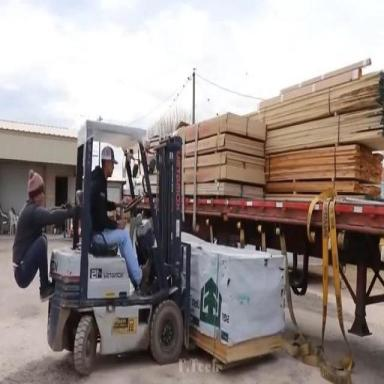forklift: (45, 118, 284, 376)
